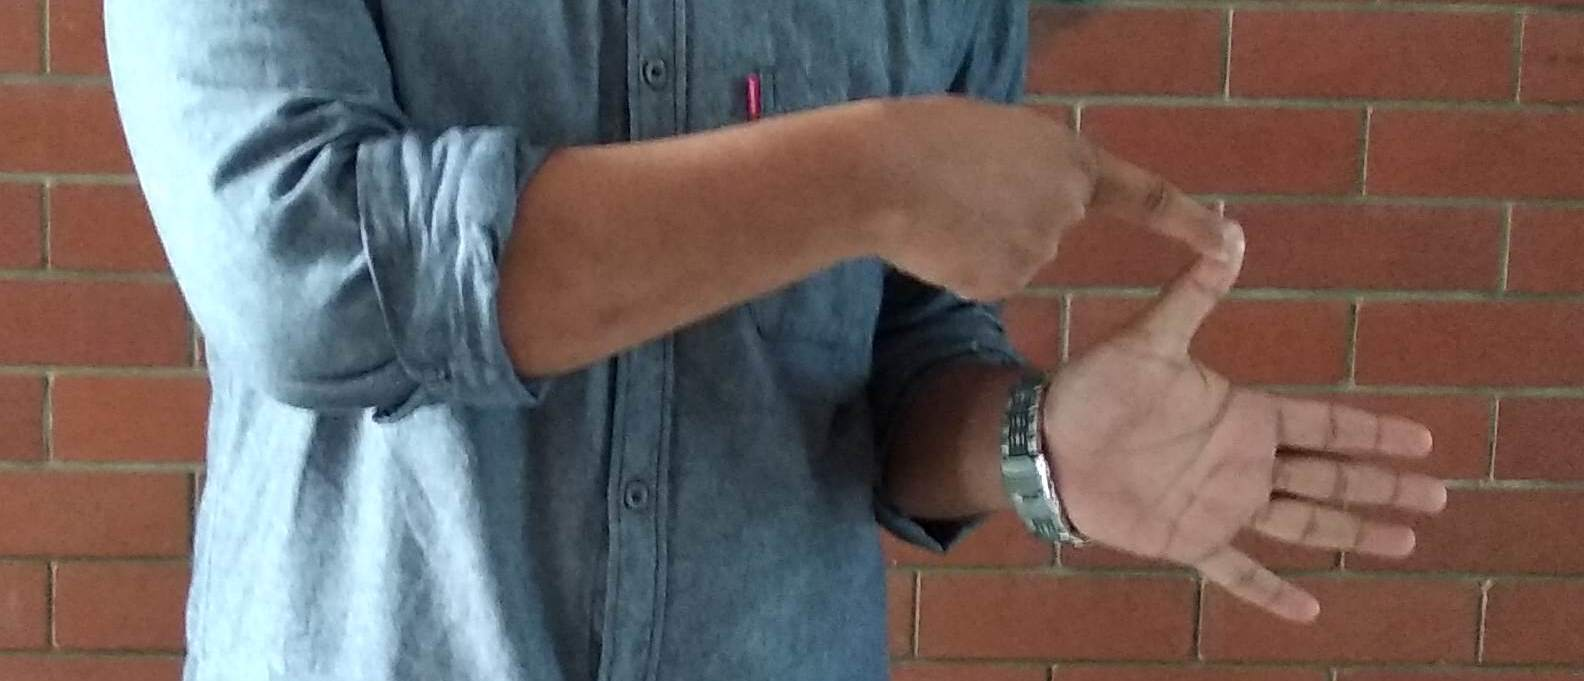a: (936, 118, 1420, 681)
